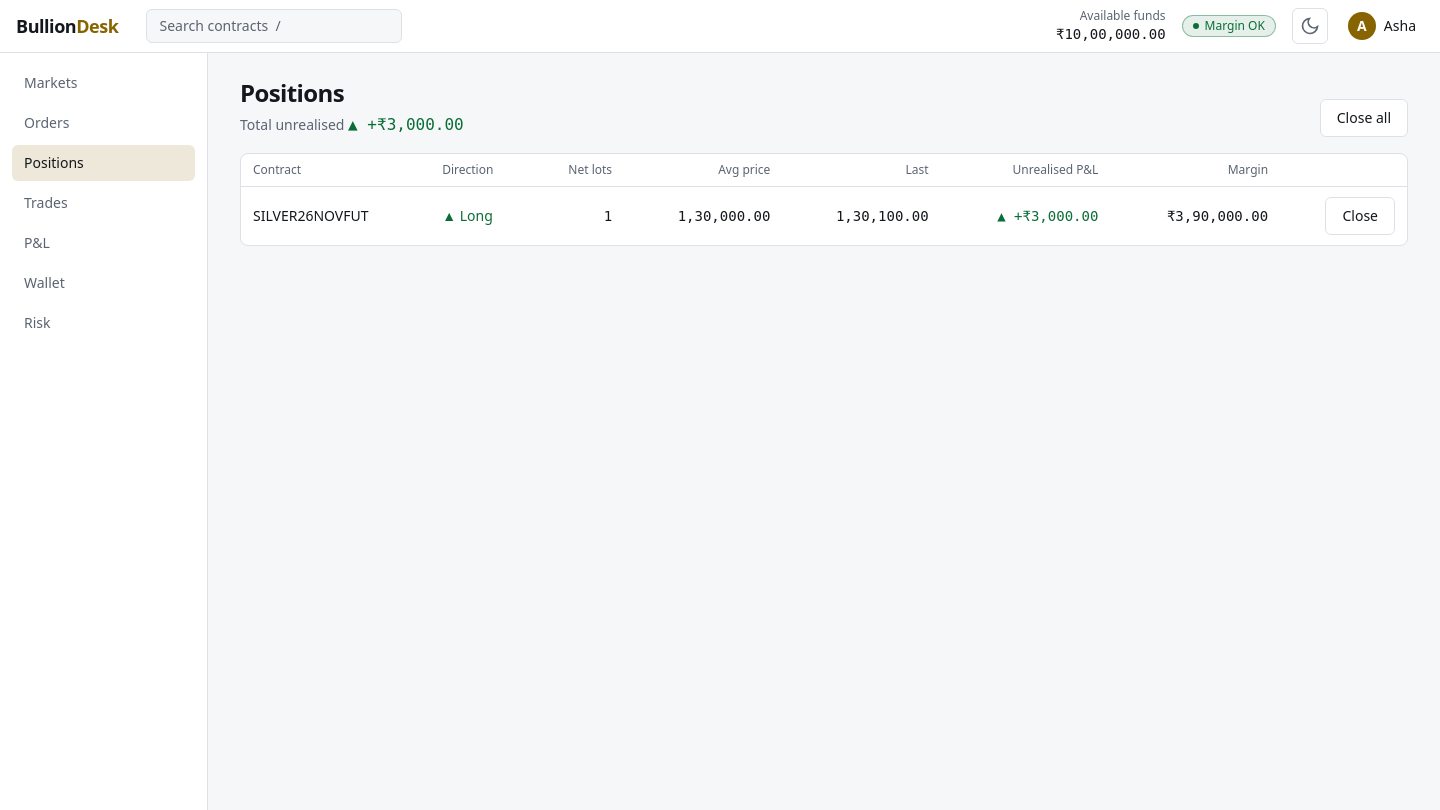
Test: toasts › shows a server fault from a mutation with its correlation id
Click the button with aria-label "Close position SILVER26NOVFUT" at (1360,216), box [1326,197,1395,235]
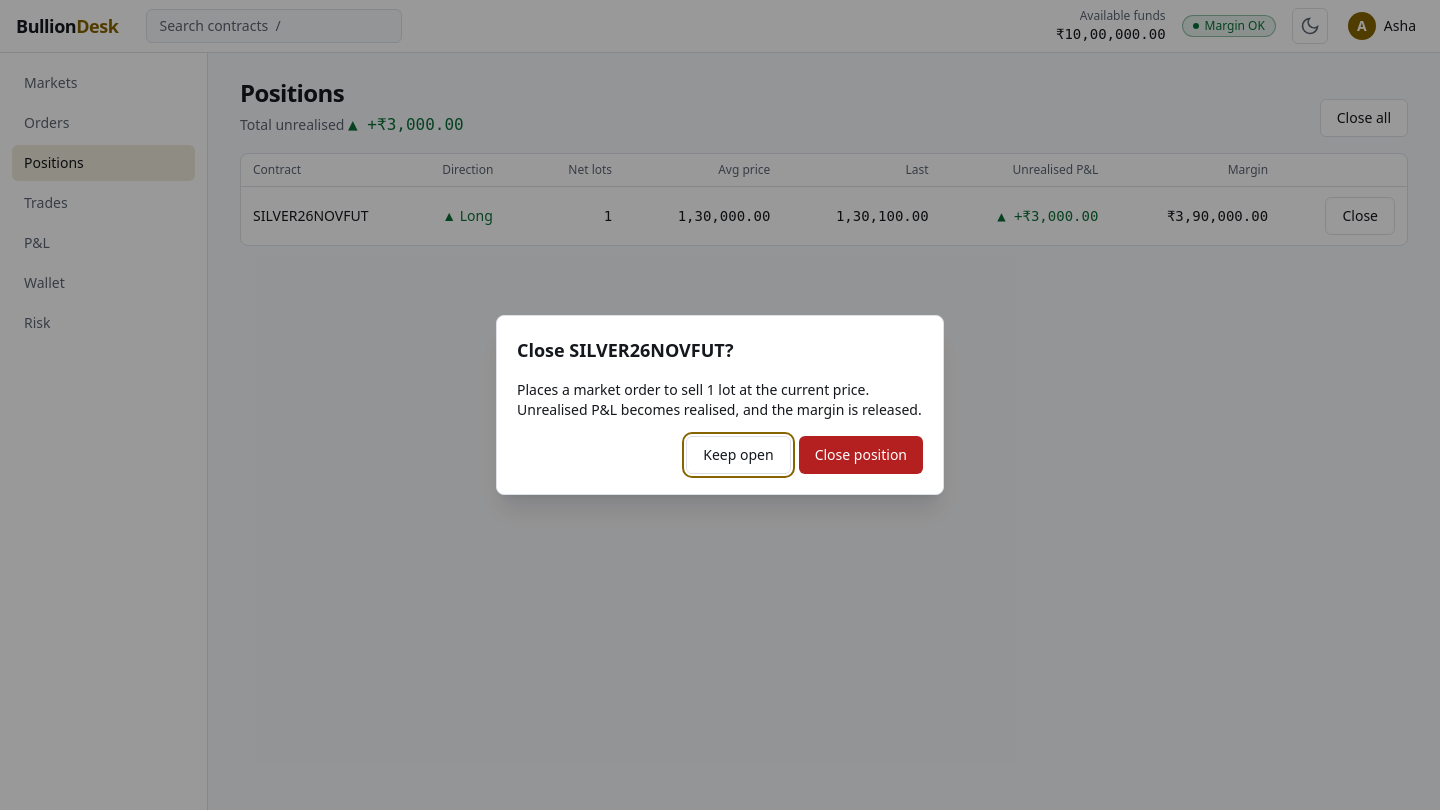
Click the button "Close position" at (861,455), box [799,436,923,474]
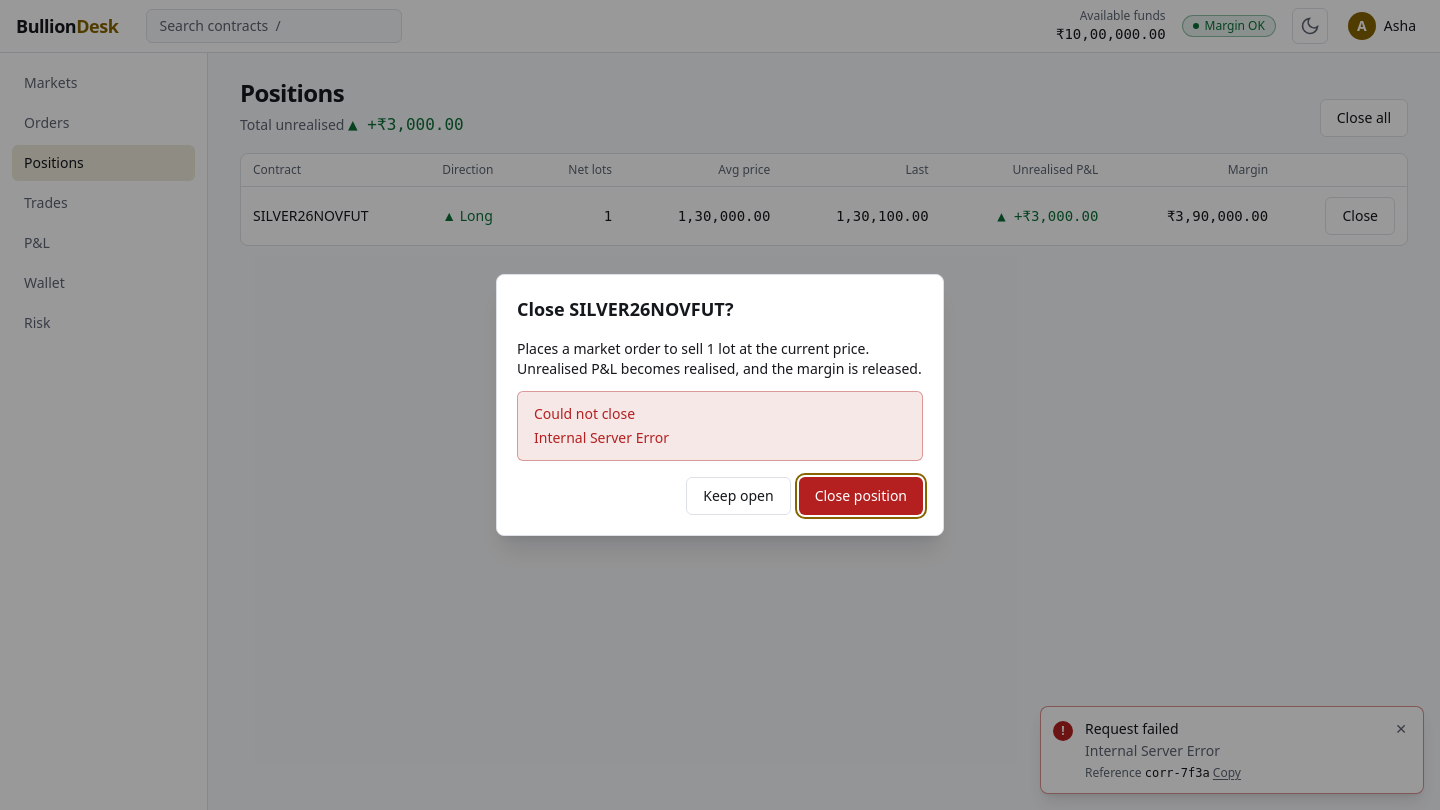
Expected: the message "! Request failed Internal Server Error Reference corr-7f3a Copy ✕" is shown, [1040,706,1424,794]
